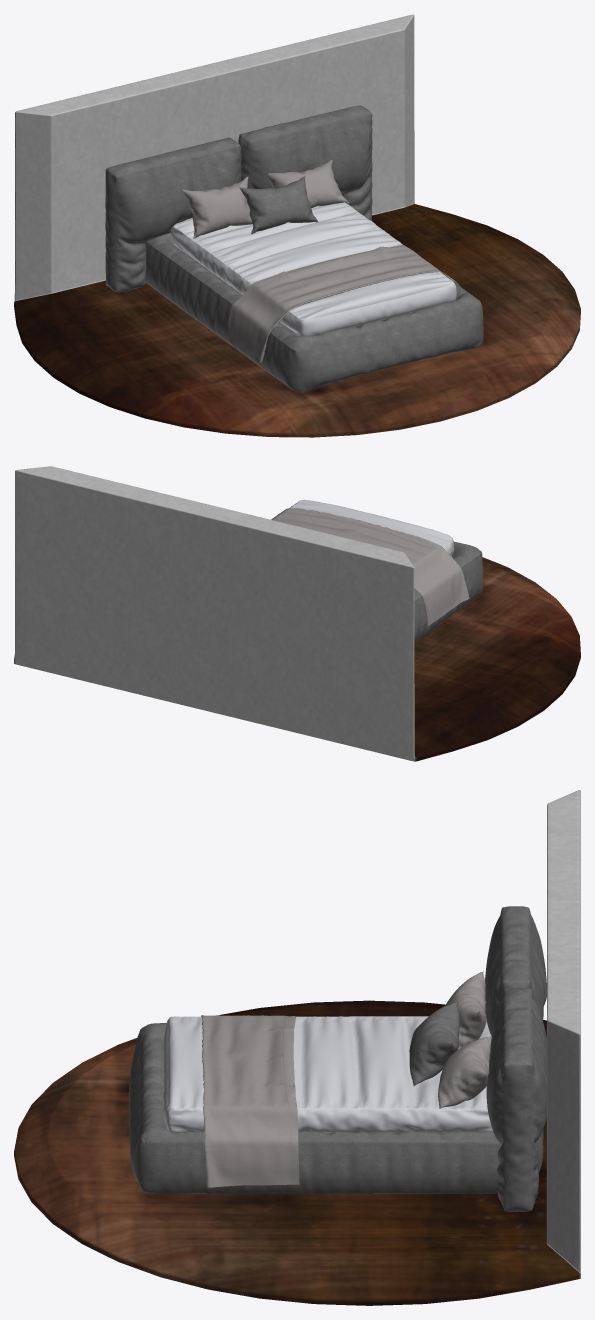
File: king_floor_bed.glb
The picture shows the model from 3 angles, top to bottom: view 1: azimuth 30°, elevation 25°; view 2: azimuth 150°, elevation 25°; view 3: azimuth 270°, elevation 25°; orthographic projection. The views are drawn at different scales.
Visible parts, largest first — view 1: Bed_Model; view 2: Bed_Model; view 3: Bed_Model.
Boxes of the visible parts, box(x1,y1,x2,y2) form: Bed_Model: box(14, 14, 580, 437); Bed_Model: box(14, 466, 580, 761); Bed_Model: box(14, 790, 580, 1305).
Size of the model in its own units: 2 by 0.7577 by 1.6.
1 material, 1 textured.
